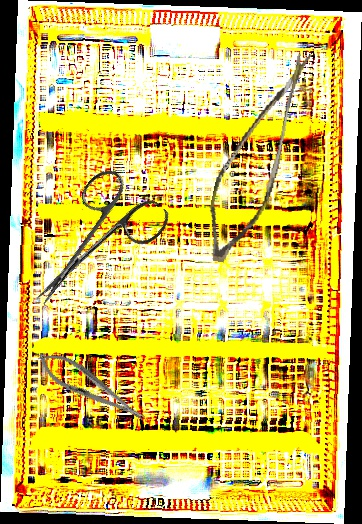Iris Scissors: (8, 160, 175, 332)
Micro Scissor: (199, 37, 312, 272)
Needle Holder: (31, 343, 151, 432)
